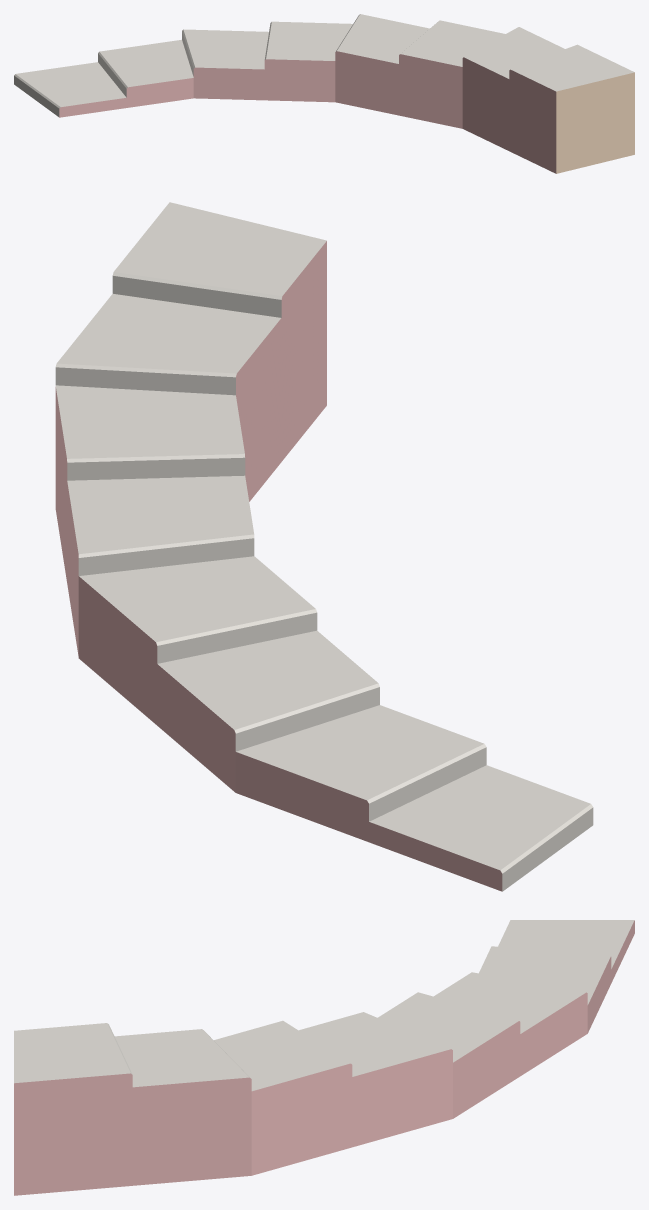
File: Tiered_Walkway_Steps_Curve_Short_5x5.glb
The picture shows the model from 3 angles, top to bottom: view 1: azimuth 30°, elevation 25°; view 2: azimuth 150°, elevation 25°; view 3: azimuth 270°, elevation 25°; orthographic projection. The views are drawn at different scales.
Visible parts, largest first — view 1: Tiered_Walkway_Steps_Curve_Short_5x5; view 2: Tiered_Walkway_Steps_Curve_Short_5x5; view 3: Tiered_Walkway_Steps_Curve_Short_5x5.
Boxes of the visible parts, box(x1,y1,x2,y2) form: Tiered_Walkway_Steps_Curve_Short_5x5: box(14, 14, 634, 173); Tiered_Walkway_Steps_Curve_Short_5x5: box(55, 202, 593, 891); Tiered_Walkway_Steps_Curve_Short_5x5: box(14, 920, 634, 1195).
Bounding box in the file's own units: 500 × 100 × 500.
